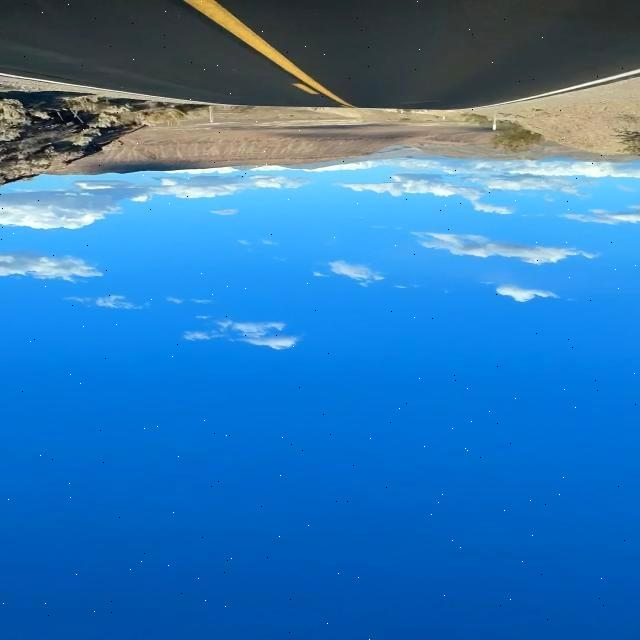lane: (184, 1, 351, 106)
road: (0, 1, 639, 109)
